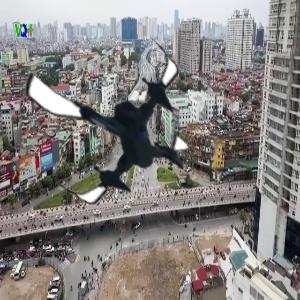drone: (19, 26, 205, 212)
